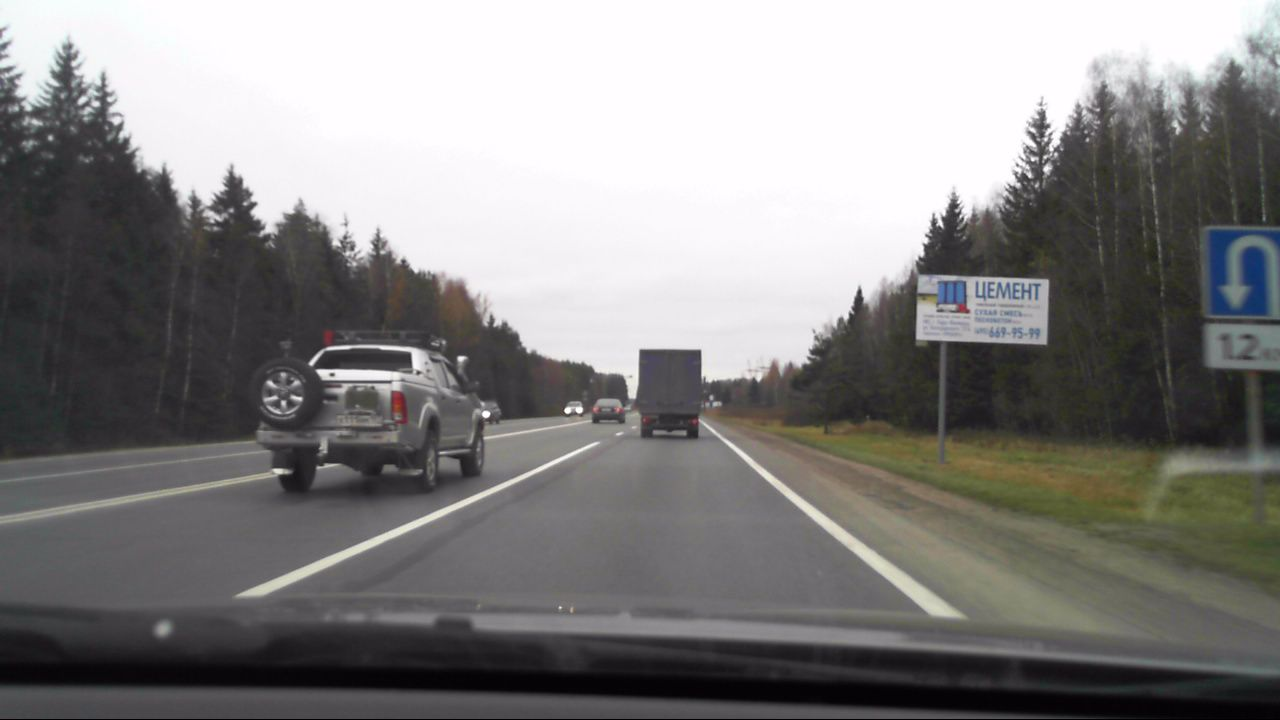U-turn: (1206, 227, 1280, 317)
